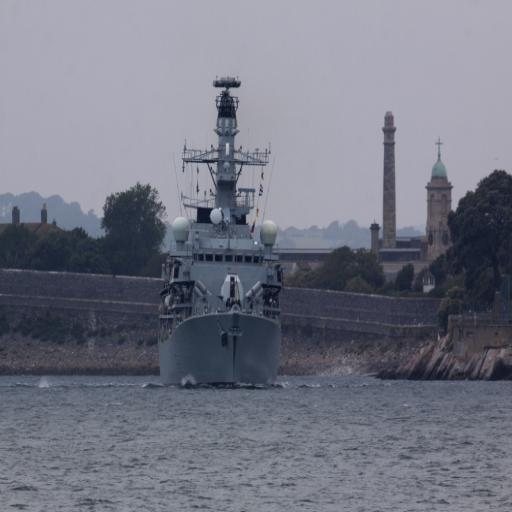Fragata: (156, 74, 282, 389)
